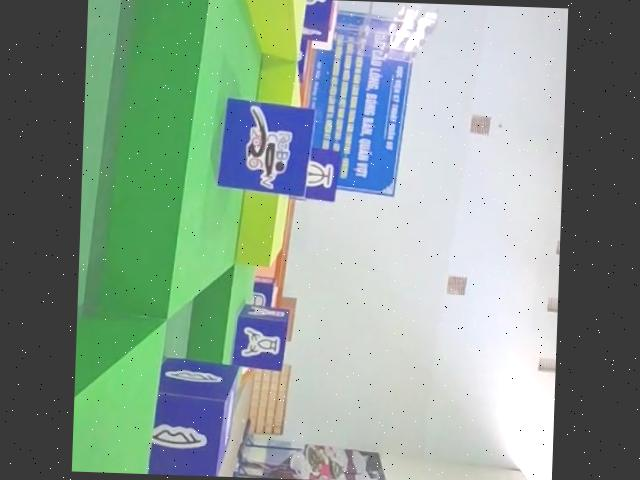R1 Blue: (215, 98, 316, 200)
R2 Fake Blue: (304, 147, 343, 201)
R2 Real Blue: (147, 356, 239, 477), (231, 304, 292, 371), (298, 0, 334, 43)
